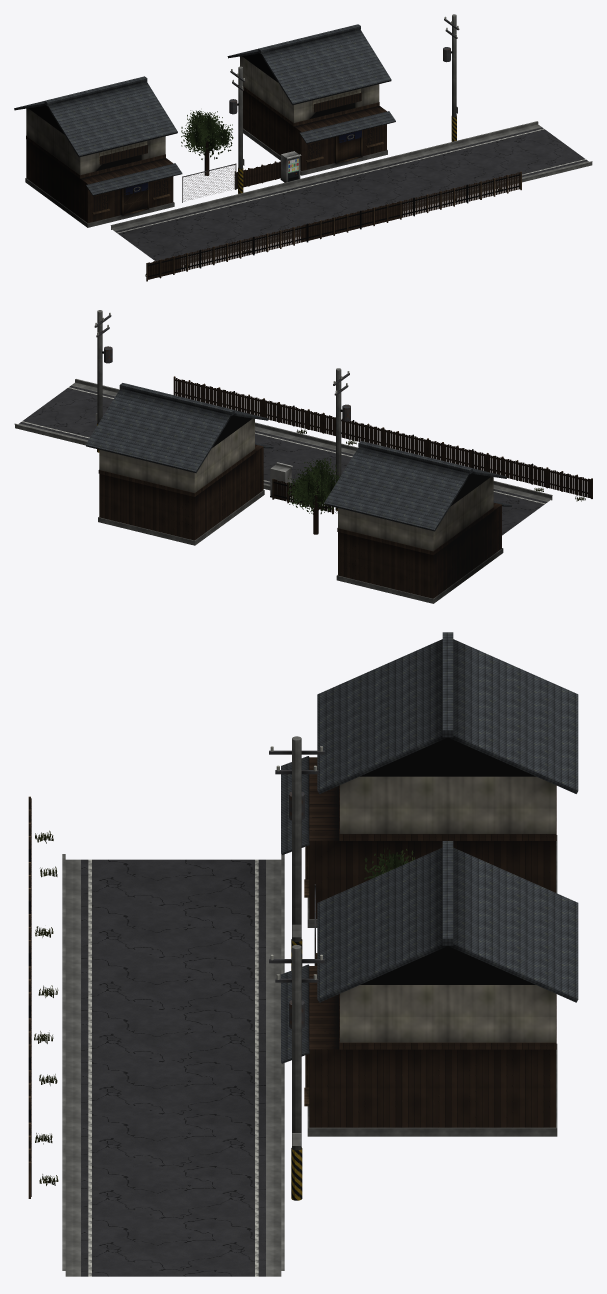
File: street_east.glb
3 views of the same model, one above another, from view 1: azimuth 30°, elevation 25°; view 2: azimuth 150°, elevation 25°; view 3: azimuth 270°, elevation 25° (orthographic). The views are drawn at different scales.
Visible parts, largest first — view 1: machiya.017, machiya.018, road.011, road.008, road.010, road.009, tree.025, wood_fence.048, wood_fence.042, wood_fence.043, wood_fence.045, wood_fence.044 (+7 smaller); view 2: machiya.018, machiya.017, road.011, tree.025, road.009, road.008, road.010, wood_fence.042, wood_fence.047, wood_fence.043, wood_fence.045, wood_fence.048 (+6 smaller); view 3: machiya.018, machiya.017, road.010, road.011, road.008, road.009, utility_pole.068, utility_pole.067.
Part boxes in pixels (x1=…): machiya.017: x1=14, y1=76, x2=182, y2=227; machiya.018: x1=227, y1=24, x2=395, y2=175; road.011: x1=431, y1=121, x2=592, y2=190; road.008: x1=110, y1=199, x2=271, y2=264; road.010: x1=324, y1=147, x2=485, y2=210; road.009: x1=217, y1=173, x2=368, y2=243; tree.025: x1=181, y1=110, x2=233, y2=175; wood_fence.048: x1=466, y1=171, x2=521, y2=203; wood_fence.042: x1=146, y1=250, x2=201, y2=281; wood_fence.043: x1=199, y1=237, x2=254, y2=268; wood_fence.045: x1=306, y1=211, x2=361, y2=241; wood_fence.044: x1=254, y1=224, x2=308, y2=254; machiya.018: x1=85, y1=383, x2=273, y2=545; machiya.017: x1=324, y1=441, x2=511, y2=603; road.011: x1=14, y1=379, x2=119, y2=445; tree.025: x1=287, y1=457, x2=340, y2=534; road.009: x1=263, y1=437, x2=357, y2=490; road.008: x1=493, y1=481, x2=552, y2=535; road.010: x1=255, y1=422, x2=313, y2=476; wood_fence.042: x1=531, y1=463, x2=592, y2=498; wood_fence.047: x1=233, y1=391, x2=294, y2=425; wood_fence.043: x1=472, y1=449, x2=531, y2=483; wood_fence.045: x1=352, y1=420, x2=413, y2=453; wood_fence.048: x1=173, y1=376, x2=233, y2=409; machiya.018: x1=281, y1=841, x2=578, y2=1136; machiya.017: x1=281, y1=632, x2=578, y2=927; road.010: x1=62, y1=1062, x2=284, y2=1172; road.011: x1=62, y1=1167, x2=284, y2=1276; road.008: x1=62, y1=854, x2=284, y2=963; road.009: x1=62, y1=958, x2=284, y2=1068; utility_pole.068: x1=269, y1=945, x2=324, y2=1200; utility_pole.067: x1=269, y1=736, x2=324, y2=970.
Size of the model in its own units: 34.04 by 9.1 by 17.83.
Materials: 23 (23 with a texture image).
